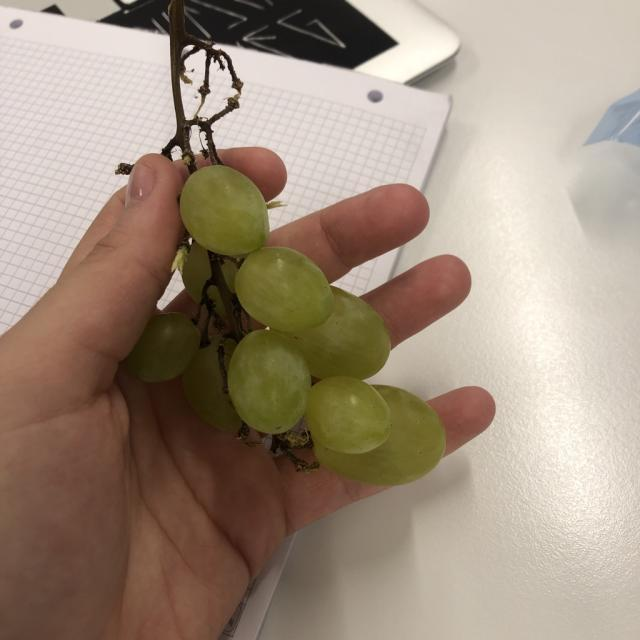grapes: (135, 162, 448, 479)
